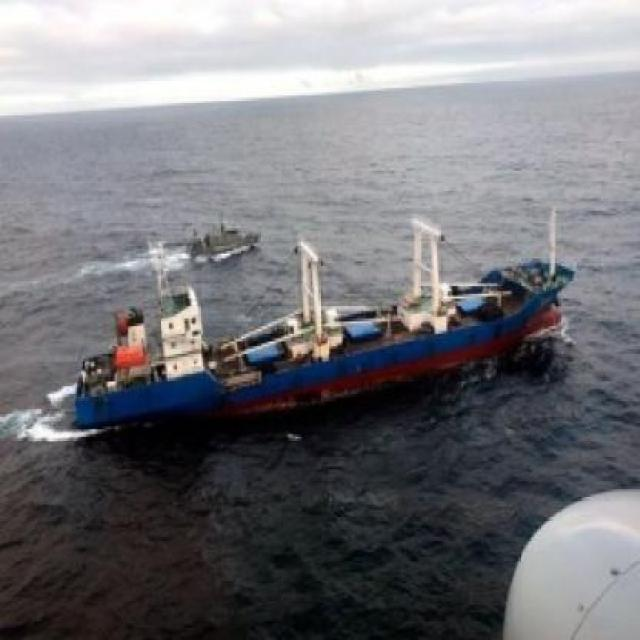fish-b: (61, 232, 590, 458)
